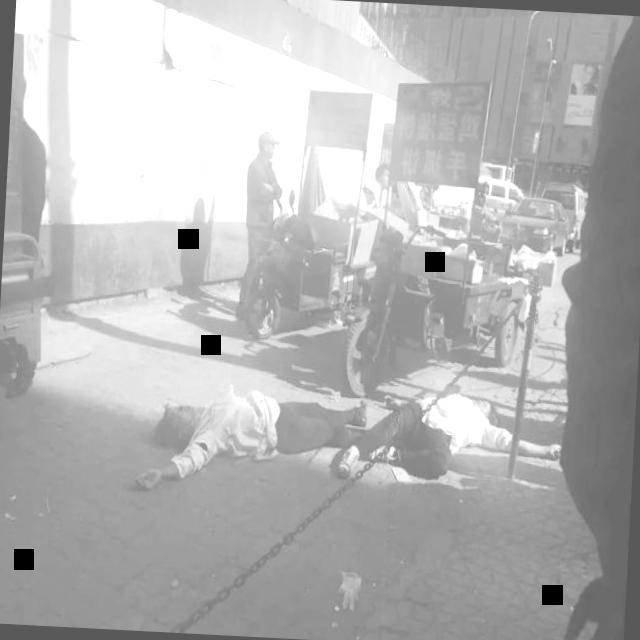Fall-Detected: (327, 366, 577, 498)
